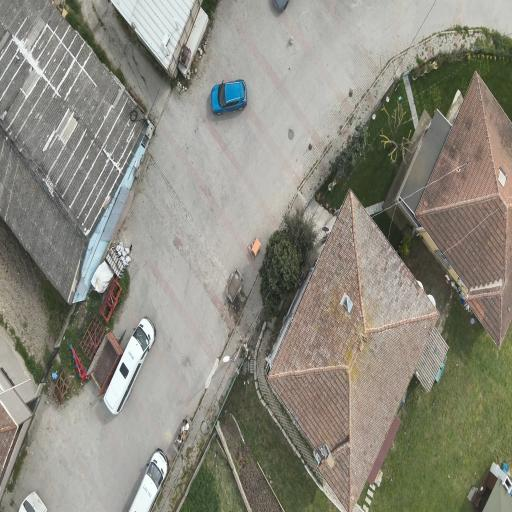car: (104, 318, 155, 414), (130, 449, 168, 511), (211, 80, 247, 115), (20, 492, 47, 511), (274, 0, 288, 11)
